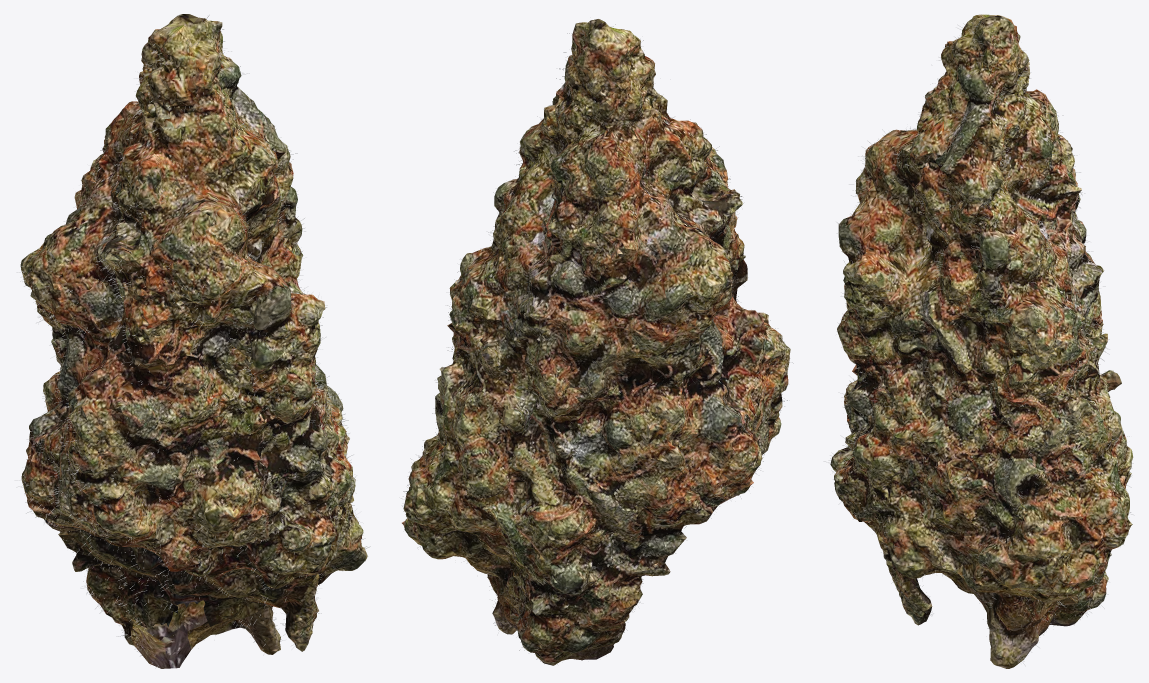
The model's file is alien_ath_nug_lite.glb.
3 renders of one model, left to right at view 1: azimuth 30°, elevation 25°; view 2: azimuth 150°, elevation 25°; view 3: azimuth 270°, elevation 25°, orthographic. The views are drawn at different scales.
Parts seen in each view (by area): view 1: Object_4, Object_6; view 2: Object_4, Object_6; view 3: Object_4, Object_6.
Part boxes in pixels (<box>): Object_4: <box>20,14,367,668</box>; Object_6: <box>14,15,370,668</box>; Object_4: <box>402,19,790,665</box>; Object_6: <box>401,24,793,664</box>; Object_4: <box>830,14,1133,668</box>; Object_6: <box>823,14,1134,666</box>.
Bounding box in the file's own units: 0.4657 × 0.854 × 0.3913.
2 materials, 1 textured.
